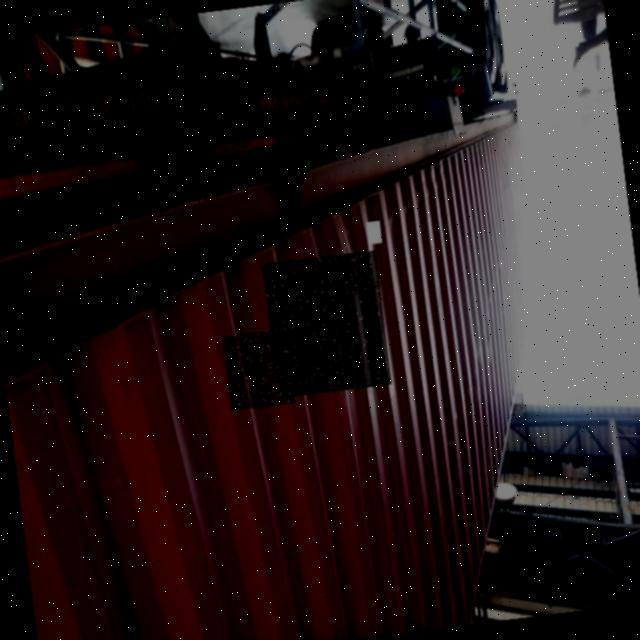Dent: (262, 250, 392, 398)
Minor-Dent: (222, 329, 296, 411)
